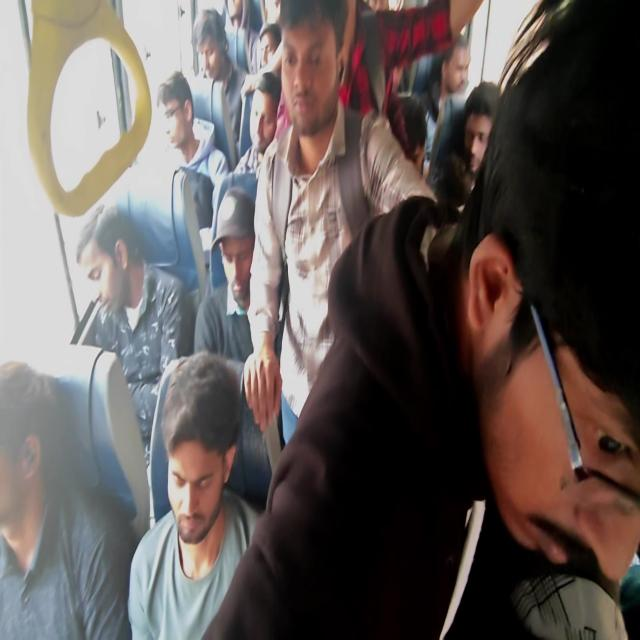person: (519, 118, 640, 595), (155, 367, 229, 562), (287, 0, 359, 134), (0, 370, 54, 524), (216, 195, 278, 314), (156, 61, 211, 192), (86, 235, 141, 347), (401, 98, 453, 205), (445, 32, 511, 106), (248, 106, 278, 183), (470, 93, 503, 160), (201, 13, 231, 79), (253, 19, 284, 76), (267, 0, 320, 27), (213, 0, 242, 40)
